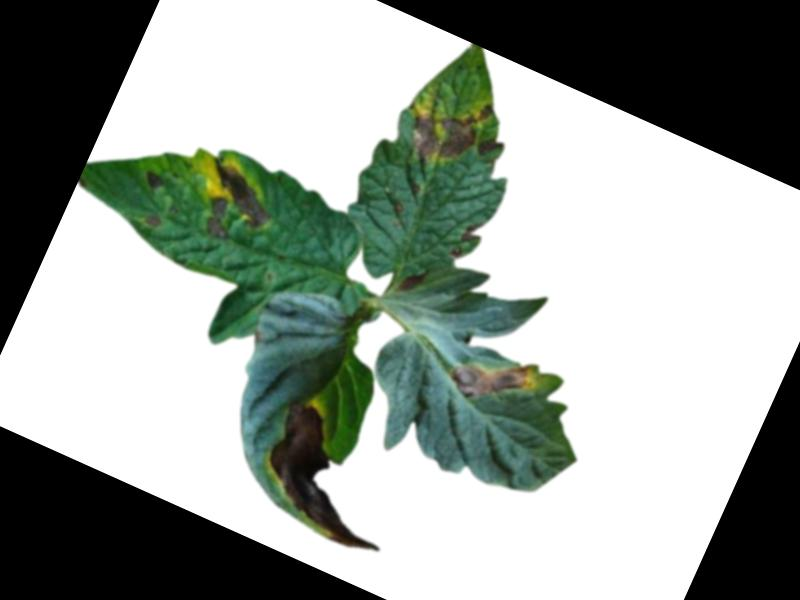Early_blight: (245, 397, 422, 560), (398, 76, 497, 180), (183, 155, 284, 256), (443, 334, 545, 423), (448, 217, 484, 265), (396, 261, 429, 300), (475, 133, 504, 164), (139, 169, 166, 195), (143, 211, 164, 230)
